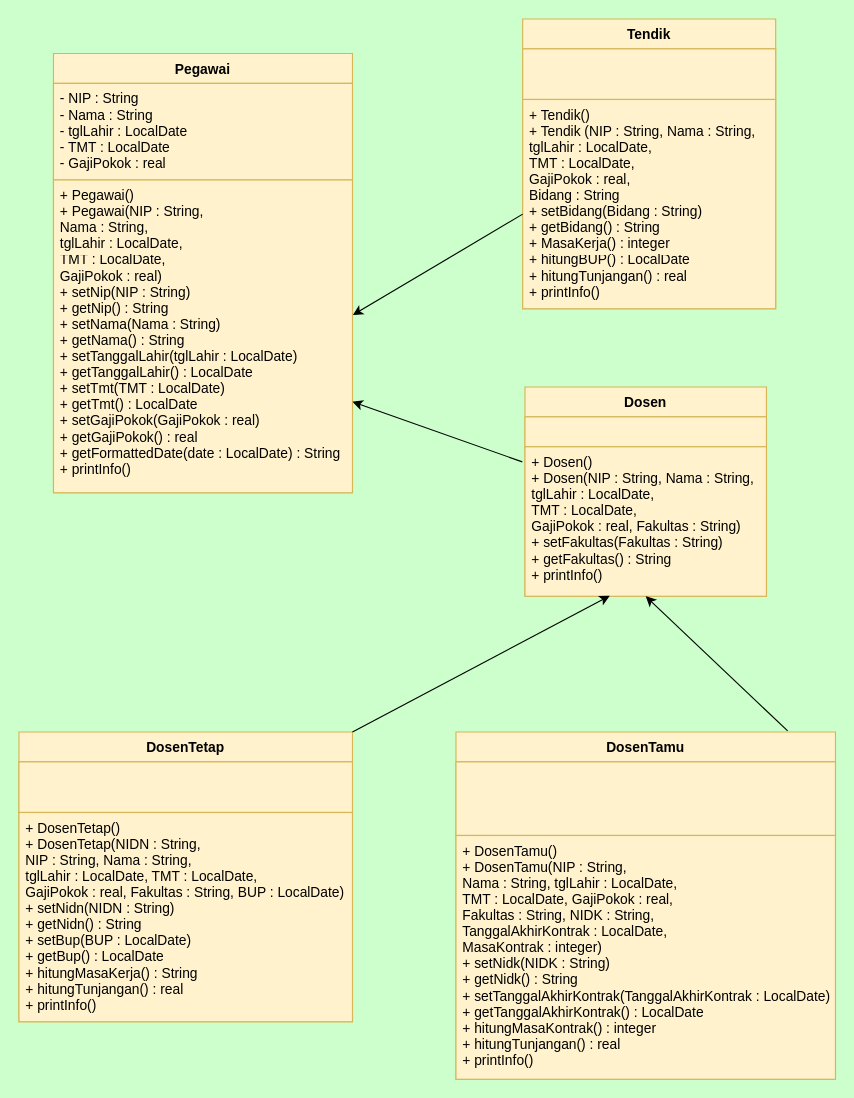
This 854x1098 diagram has some shape labels left out. Each missing label, with the centre of its shape:
- Bidang : String - BUP : integer: the point at 649,73
- Fakultas : String: the point at 645,431
- NIDK : String - TanggalAkhirKontrak : LocalDate - MasaKontrak : integer: the point at 645,798
- NIDN : String - BUP : integer: the point at 185,786
